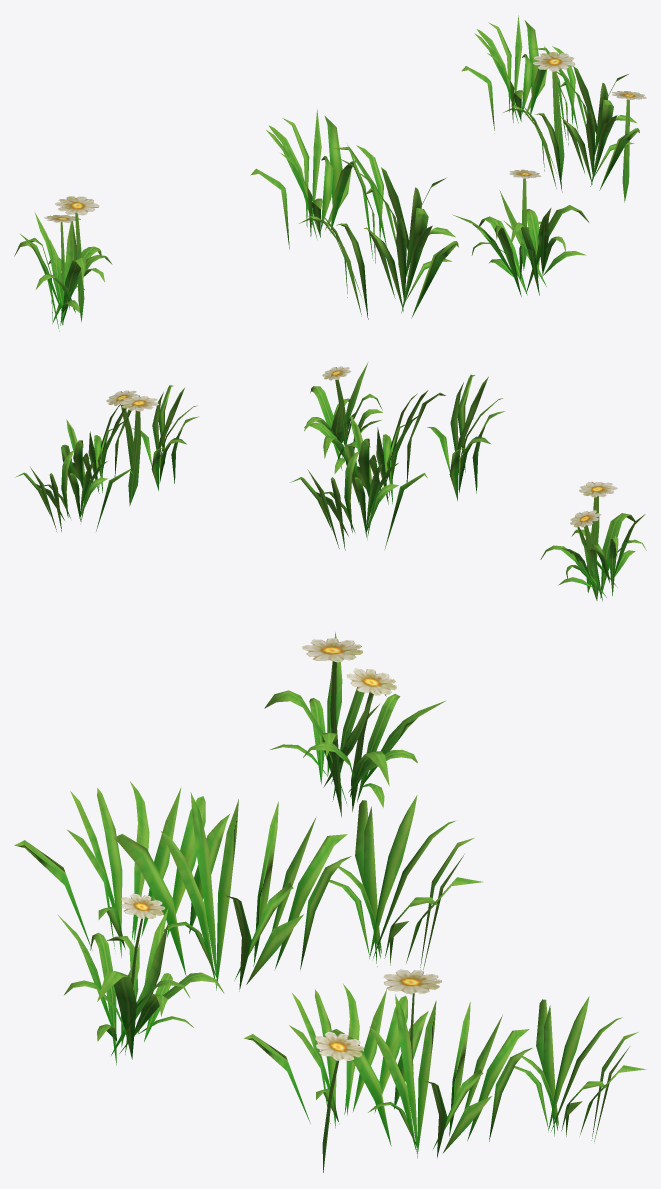
The model's file is huahua_01.fbx.
The picture shows the model from 3 angles, top to bottom: view 1: azimuth 30°, elevation 25°; view 2: azimuth 150°, elevation 25°; view 3: azimuth 270°, elevation 25°; orthographic projection. The views are drawn at different scales.
Visible parts, largest first — view 1: polySurface10348; view 2: polySurface10348; view 3: polySurface10348.
Part boxes in pixels (x1=…): polySurface10348: x1=14, y1=15, x2=646, y2=331; polySurface10348: x1=15, y1=362, x2=646, y2=601; polySurface10348: x1=14, y1=632, x2=646, y2=1172.
Bounding box in the file's own units: 646 × 138 × 412.
